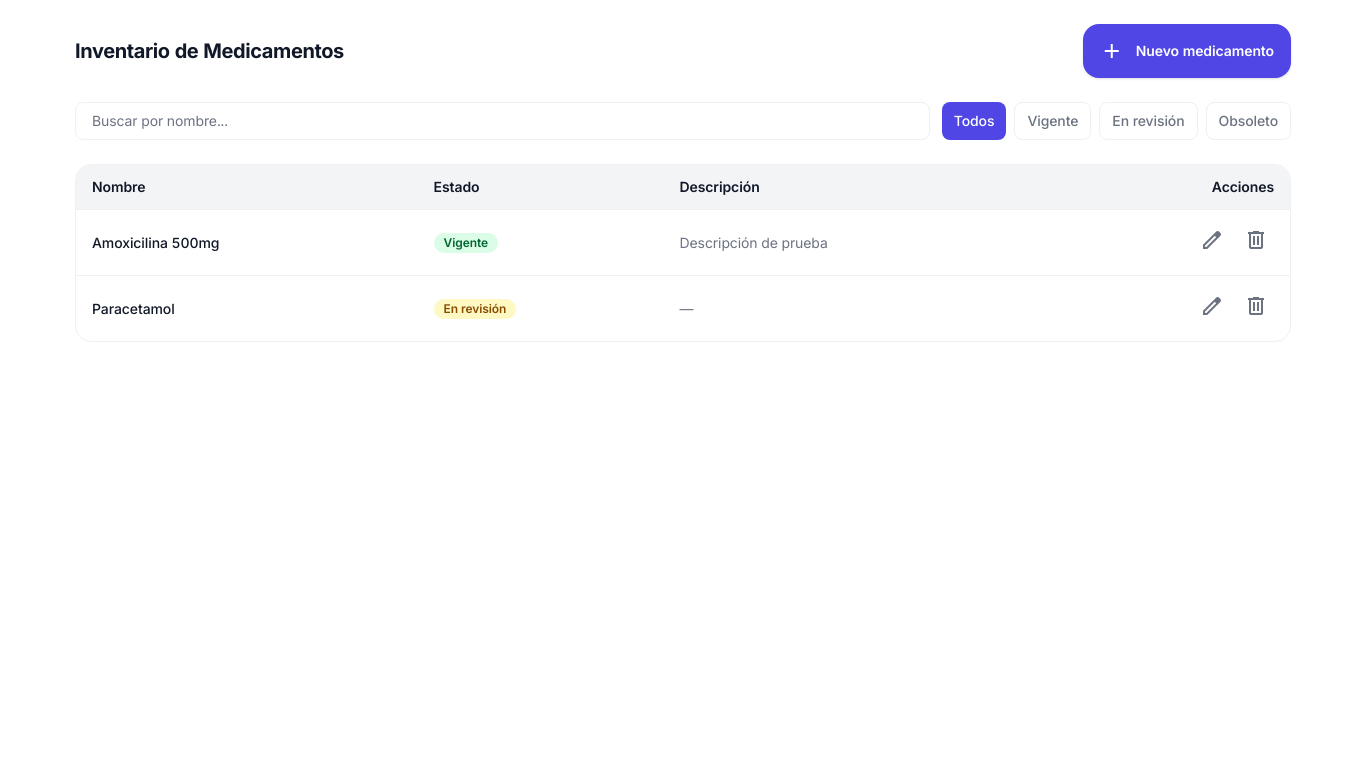
Scenario: InventoryPage › edit modal › prefills the form with the selected medicamento
Expected: the text "Amoxicilina 500mg" is shown, [76,210,418,276]
Click the button named "Editar" in the row of "Amoxicilina 500mg" at x=1212, y=242, box [1194,222,1230,263]
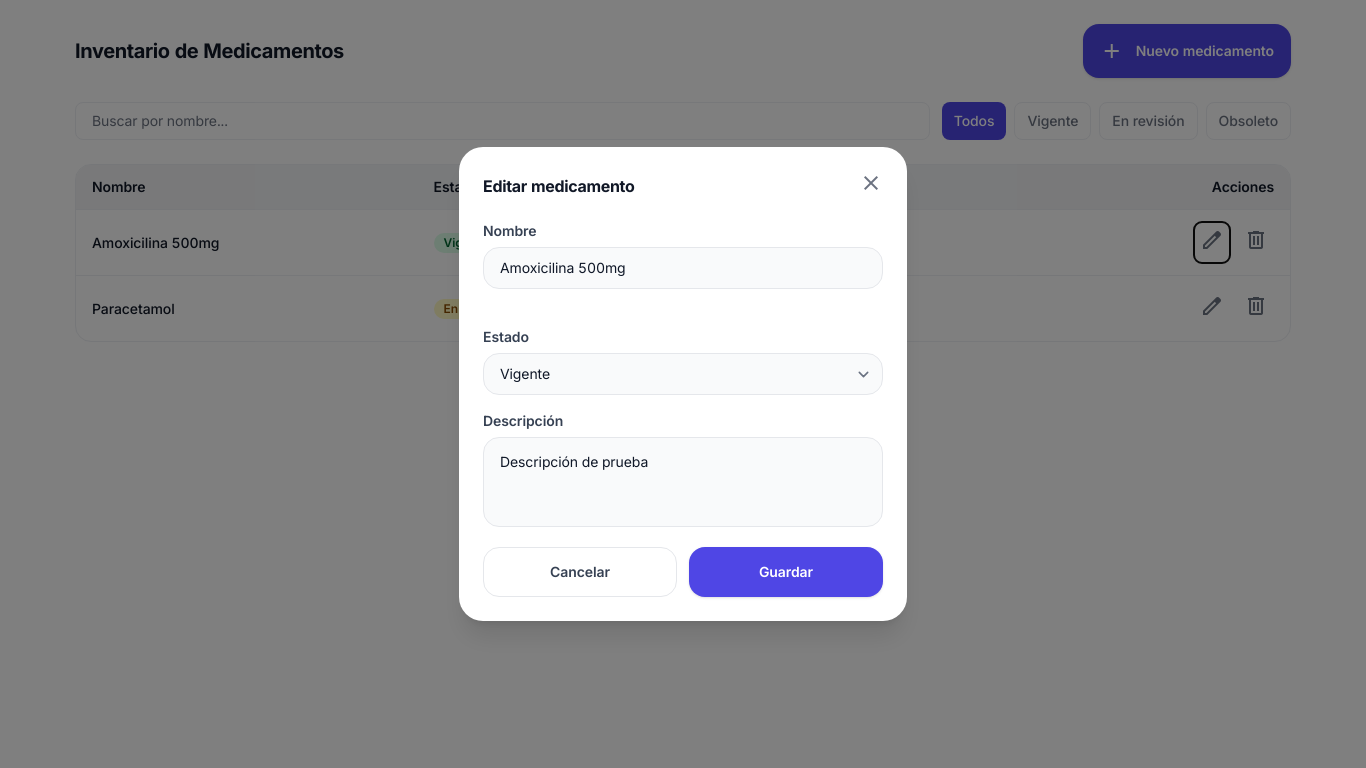
Expected: the heading "Editar medicamento" is shown, [483,174,634,198]
Expected: the field labelled "Nombre" holds "Amoxicilina 500mg", [483,247,883,289]
Expected: the dropdown labelled "Estado" shows "Vigente", [483,353,883,395]
